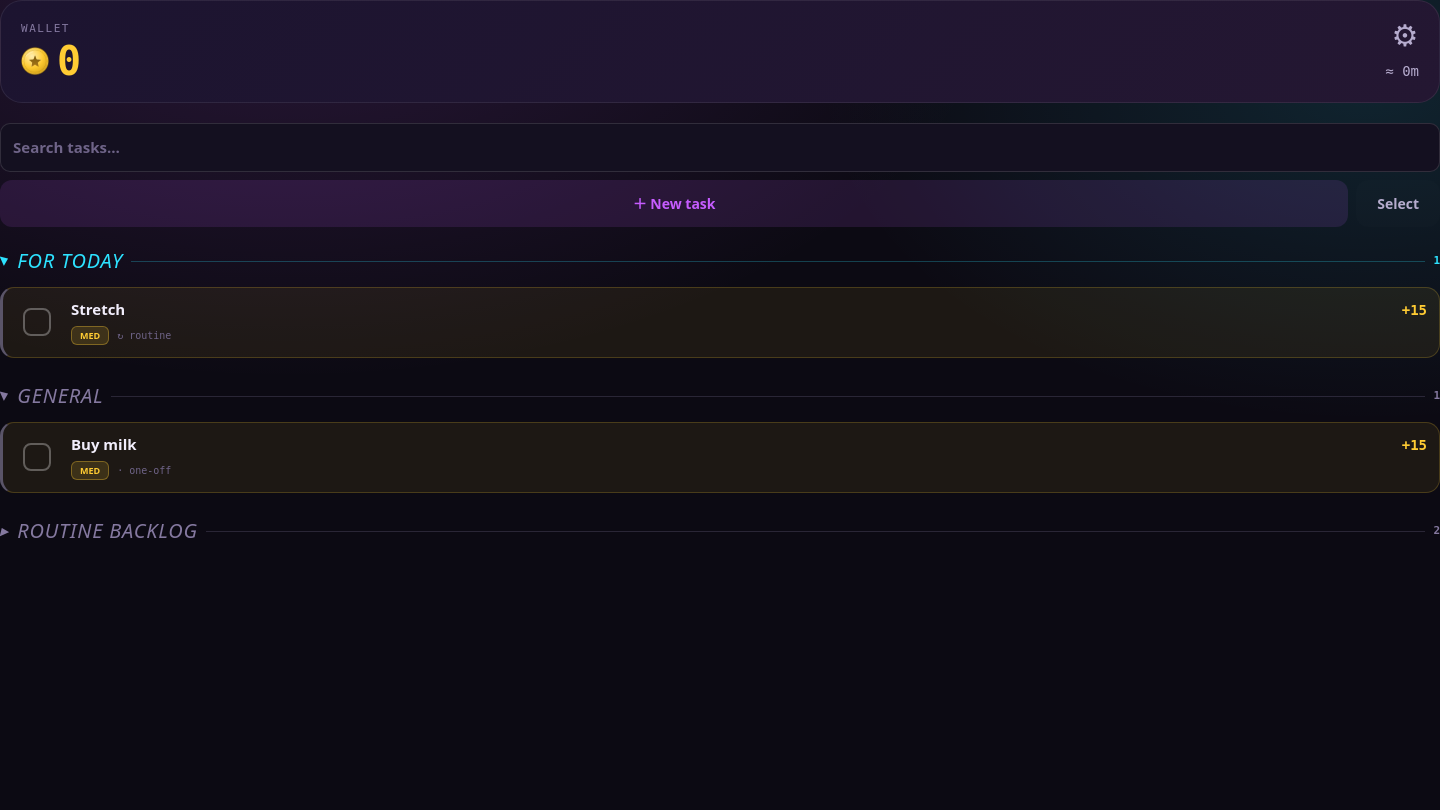
tapping a task › reads it rather than opening the editor
The width and height of the screenshot is (1440, 810).
What coordinates should you click on to do the following:
click the button "Buy milk"
I would click on:
 (104, 444)
Its box is x1=71 y1=435 x2=1390 y2=453.
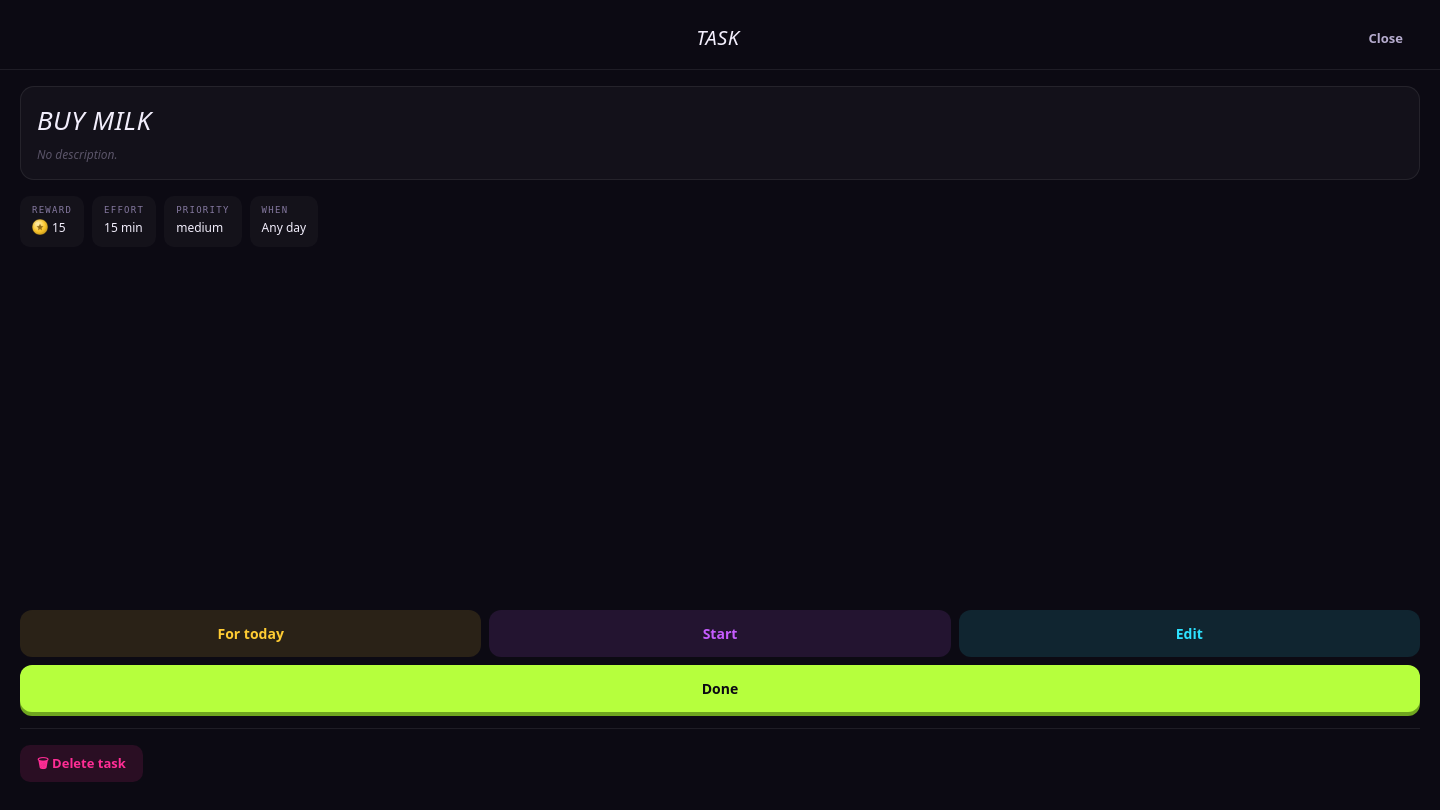
Expected: the heading "Buy milk" is shown, x1=37 y1=102 x2=152 y2=138
